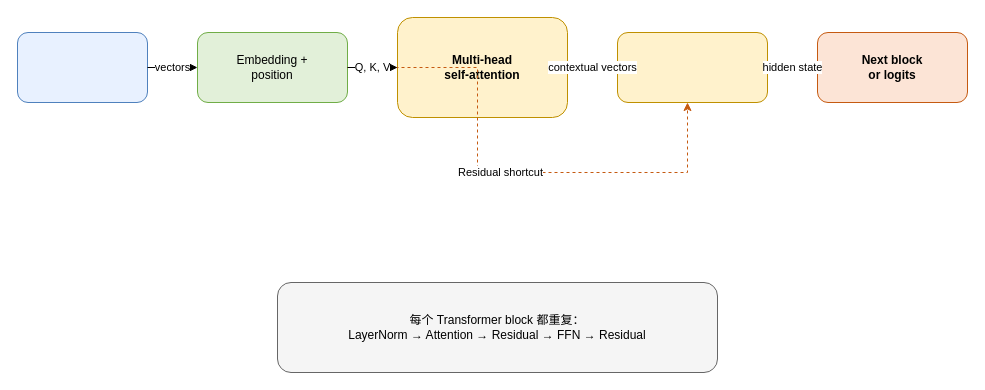
This 985x390 diagram has some shape labels left out. The centre of each missing label's shape, as x and y in pixels:
"Feed-forward network" belongs at point (692, 67).
"Tokens [t1, t2, …]" belongs at point (82, 67).
